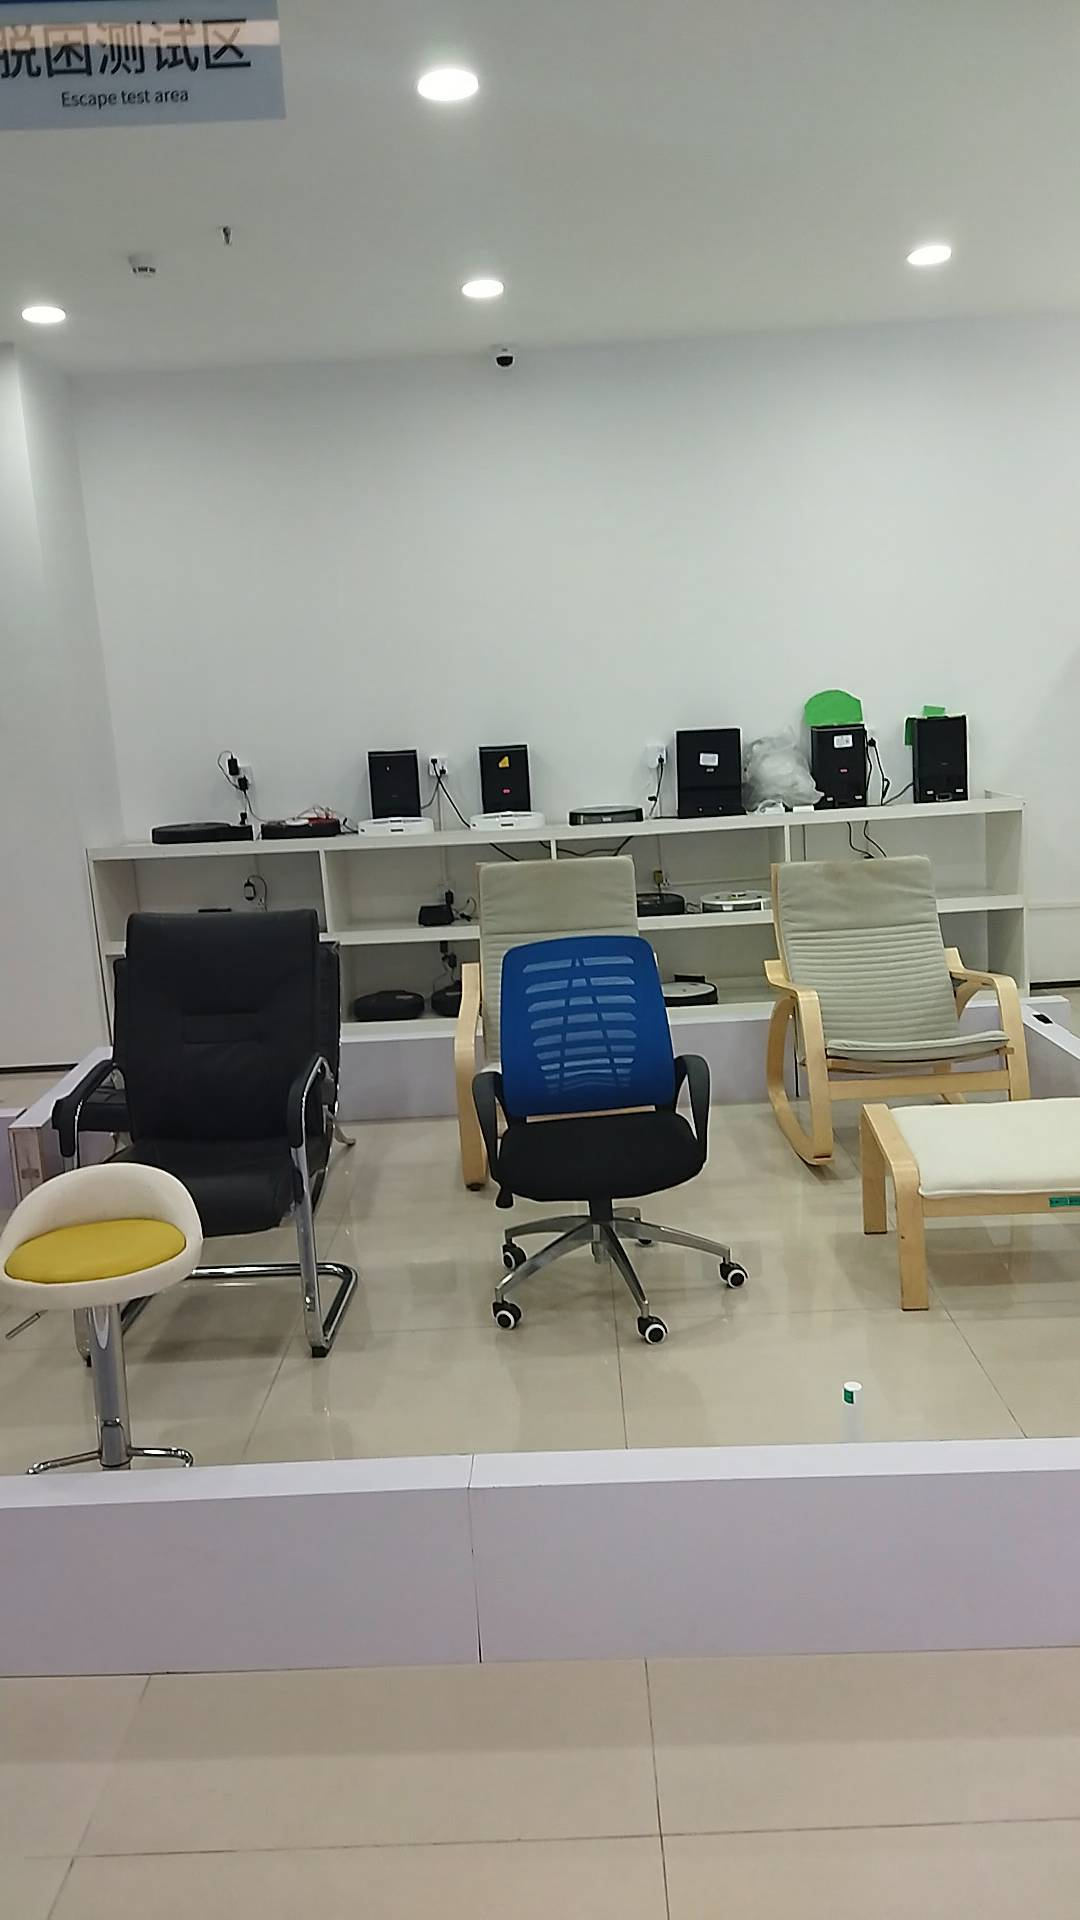dust collecting barrel: (675, 731, 745, 818), (905, 715, 975, 802), (808, 724, 870, 815), (477, 745, 535, 815), (368, 752, 425, 815)
recharge seat: (414, 906, 458, 927)
